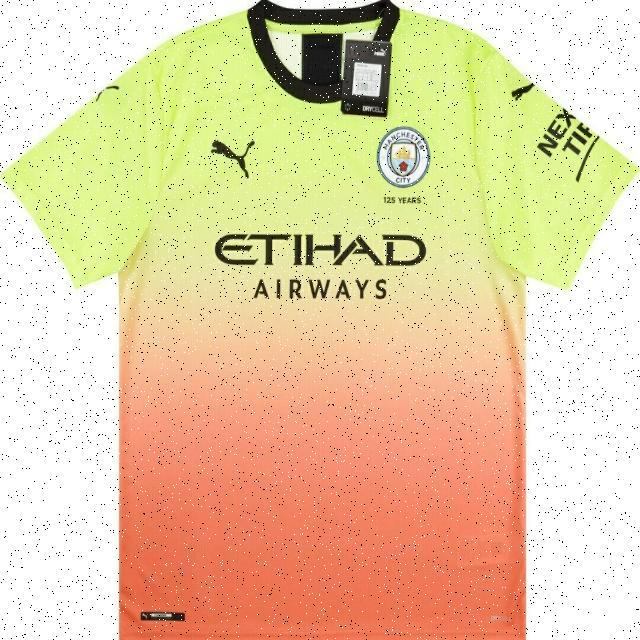Etihad Airways: (213, 228, 429, 301)
Puma: (209, 134, 258, 185)
